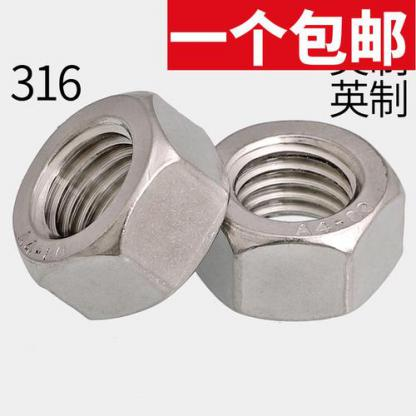FOD: (12, 89, 230, 322), (180, 115, 409, 324)
